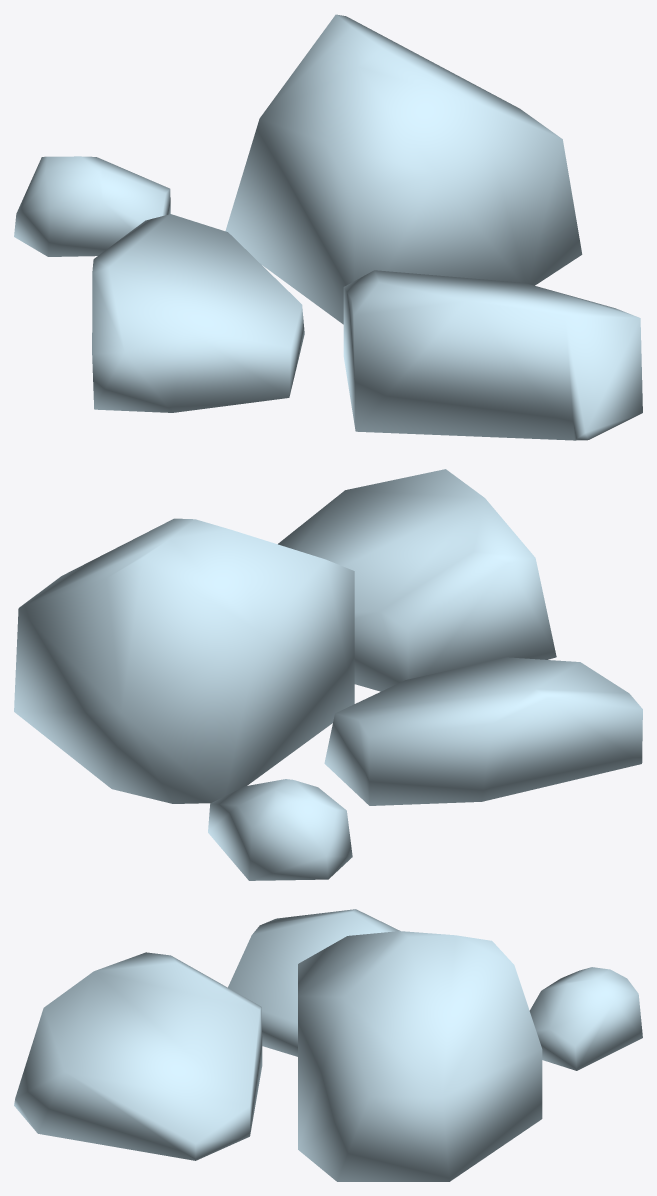
Rendered from Stone_Small.fbx.
3 renders of one model, top to bottom at view 1: azimuth 30°, elevation 25°; view 2: azimuth 150°, elevation 25°; view 3: azimuth 270°, elevation 25°, orthographic. The views are drawn at different scales.
Visible parts, largest first — view 1: stone_chunky; view 2: stone_chunky; view 3: stone_chunky.
Part boxes in pixels (x1,y1,x2,y2): stone_chunky: [14, 14, 642, 440]; stone_chunky: [14, 469, 642, 880]; stone_chunky: [14, 909, 642, 1181].
Bounding box in the file's own units: 233 × 90.9 × 286.
